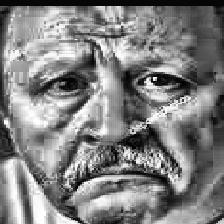angry: (5, 21, 224, 224)
